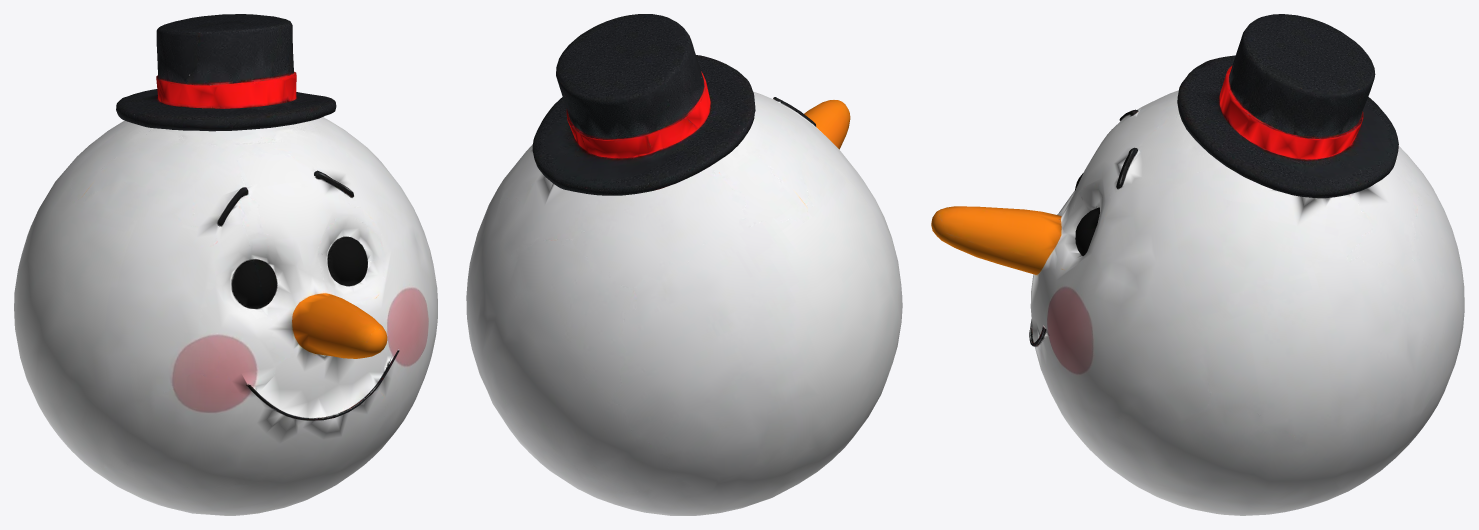
The model's file is toit-tete.glb.
The picture shows the model from 3 angles, left to right: view 1: azimuth 30°, elevation 25°; view 2: azimuth 150°, elevation 25°; view 3: azimuth 270°, elevation 25°; orthographic projection. The views are drawn at different scales.
Size of the model in its own units: 1.56 by 1.87 by 1.9.
Materials: 1 (1 with a texture image).
